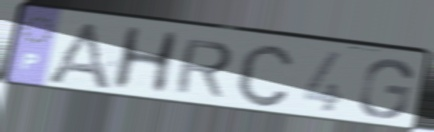4: (300, 49, 345, 116)
A: (41, 20, 115, 94)
C: (233, 41, 297, 109)
G: (356, 57, 416, 121)
H: (107, 24, 184, 95)
R: (171, 37, 236, 100)
